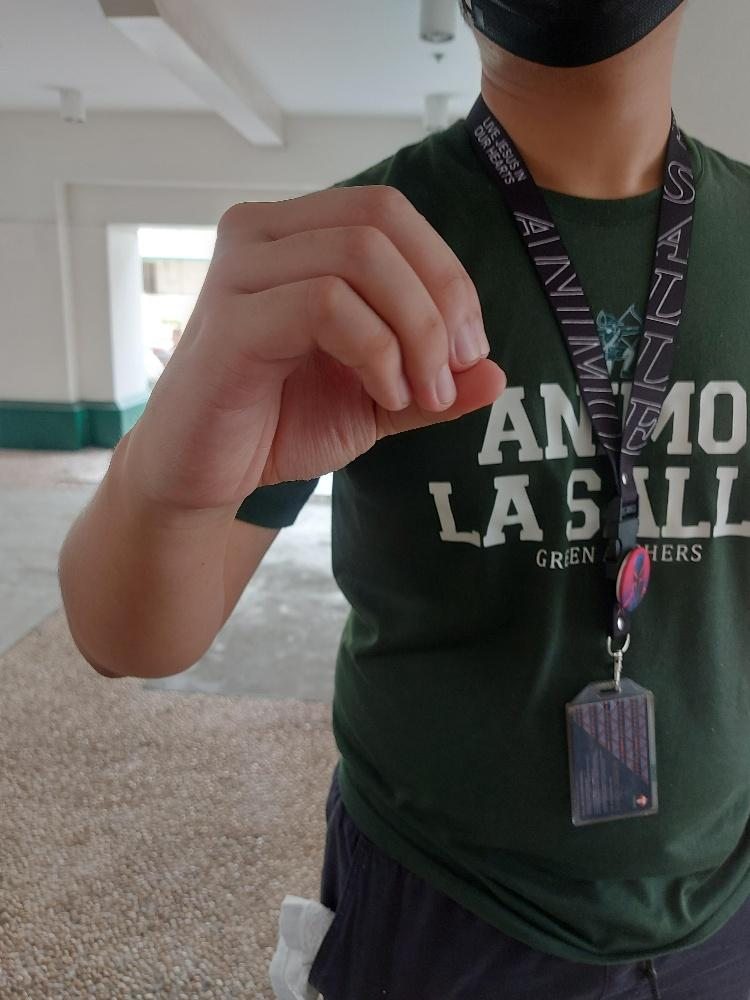o: (172, 180, 509, 500)
